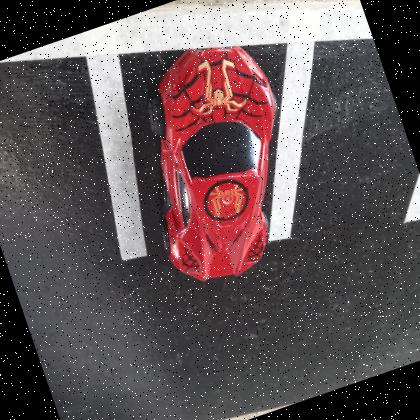Car: (157, 44, 278, 280)
